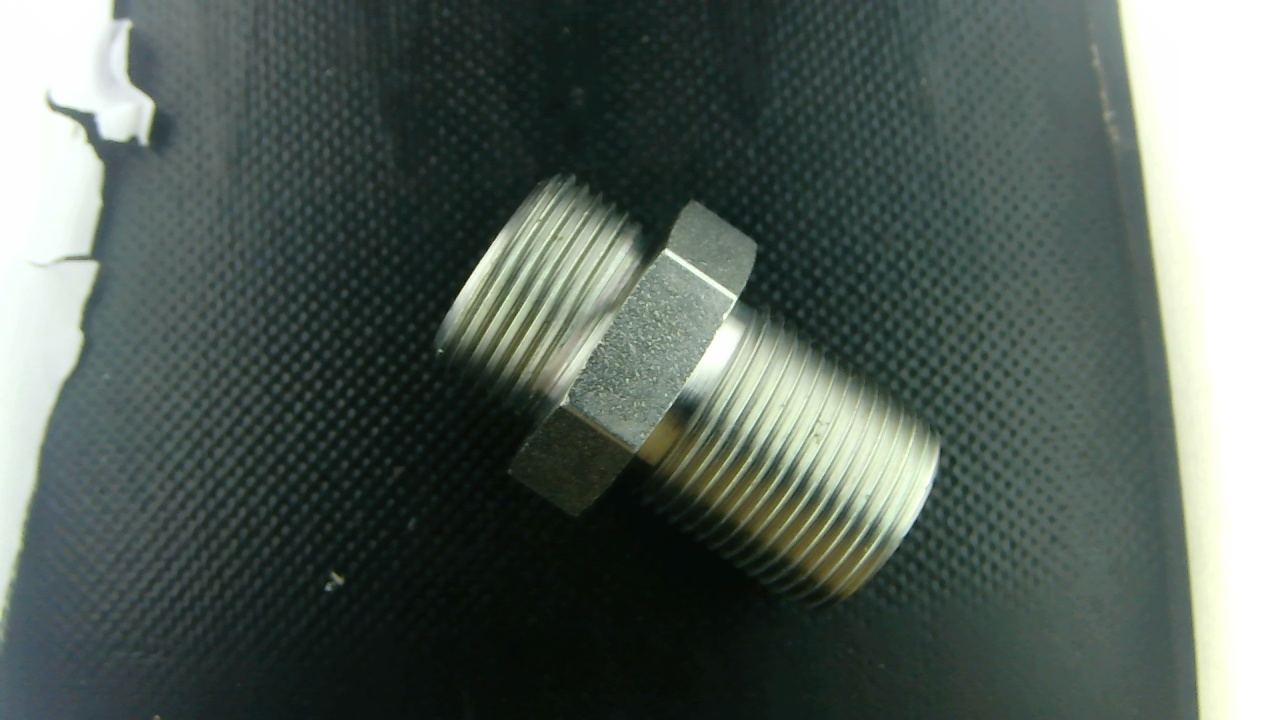okay_adapter: (435, 176, 939, 604)
